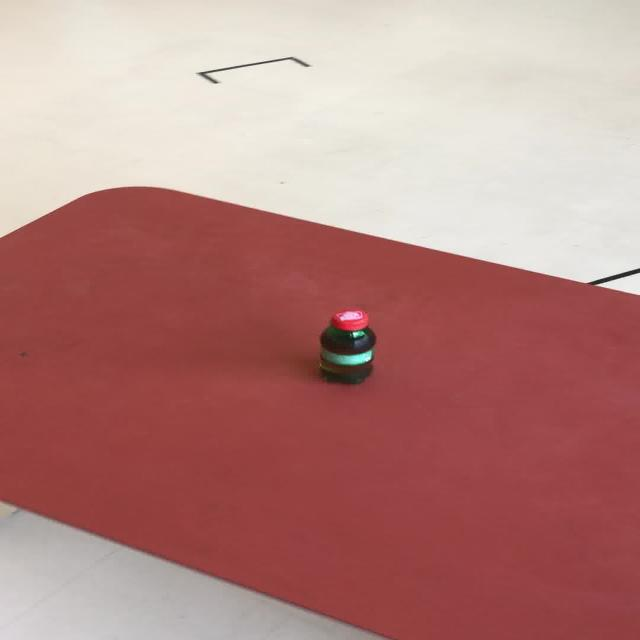guarana: (316, 308, 376, 376)
